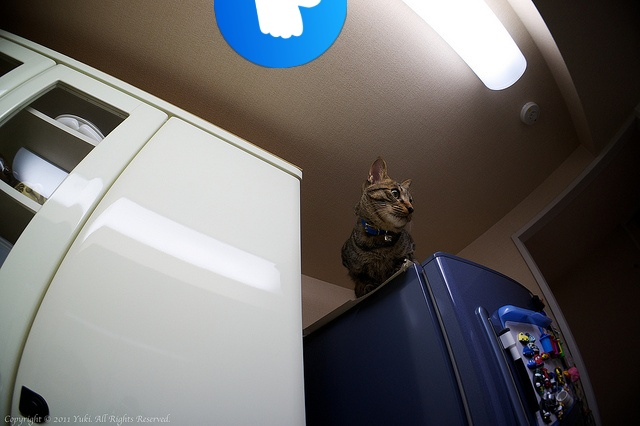like: (214, 0, 347, 68)
